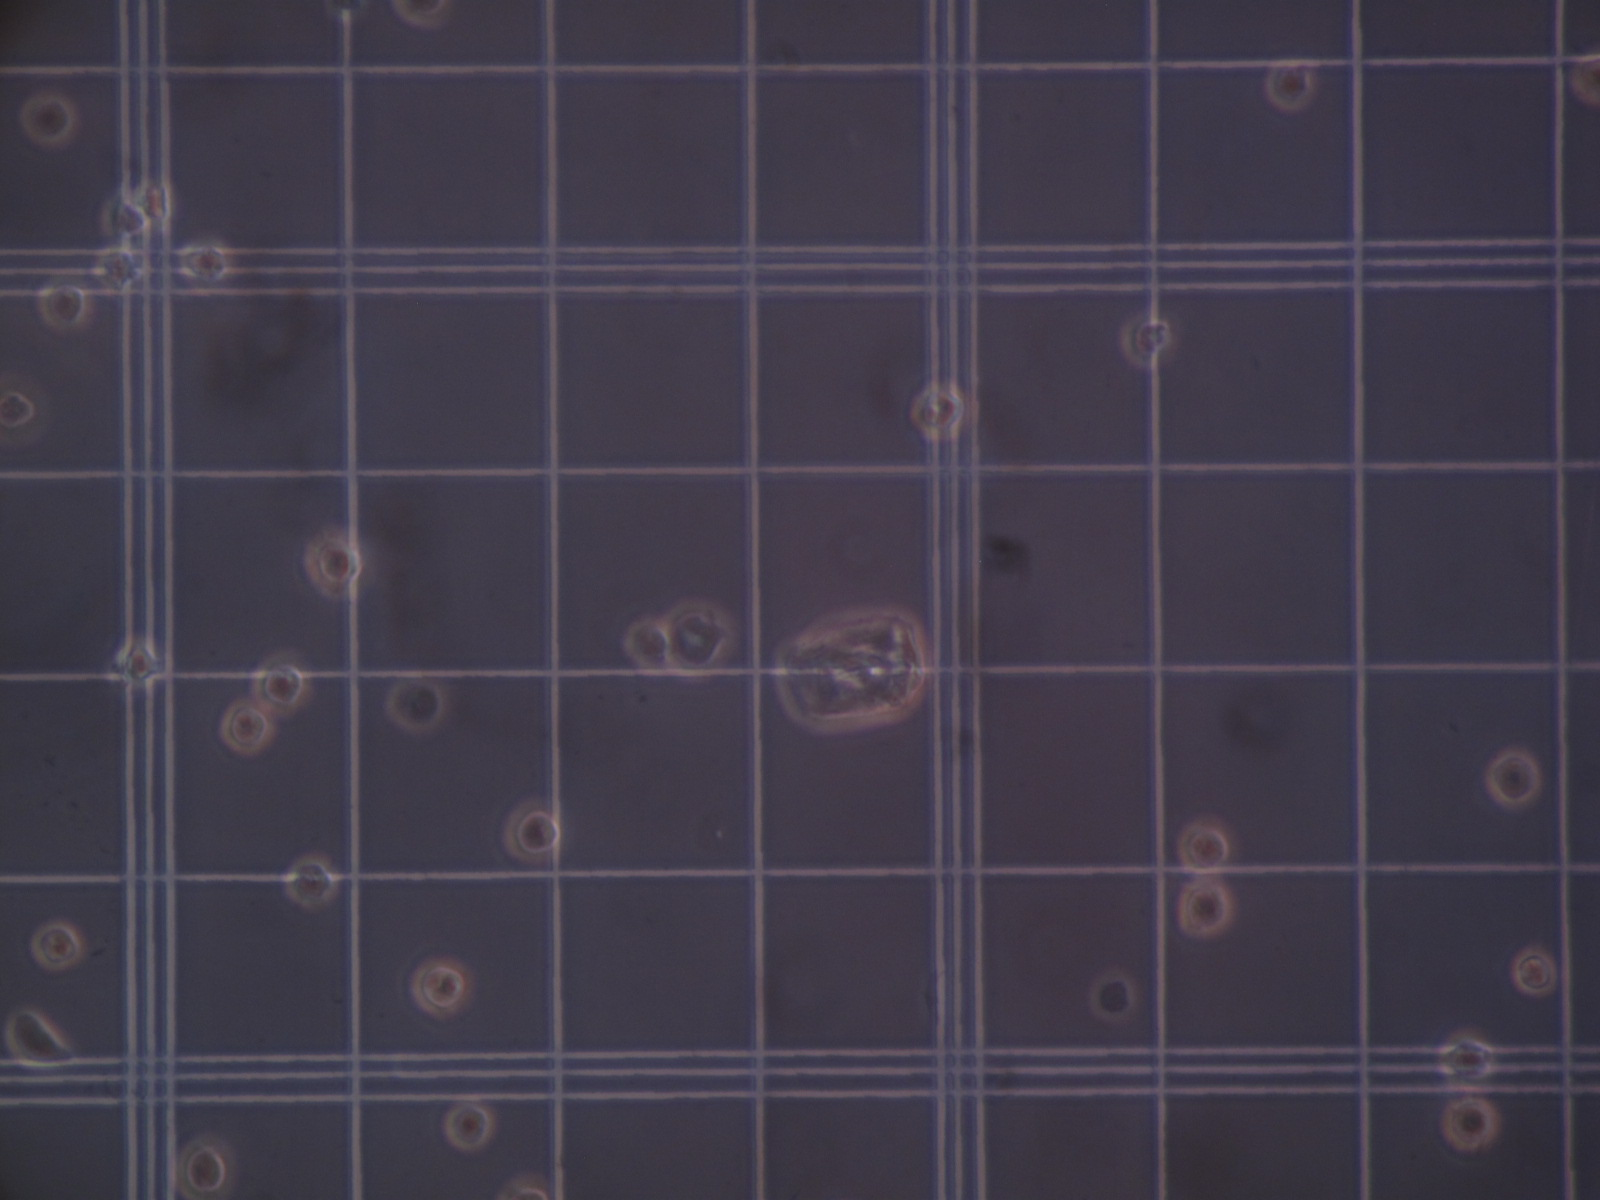hemo: (661, 601, 738, 682), (304, 524, 363, 603), (3, 1007, 76, 1070), (249, 647, 312, 718), (176, 1134, 237, 1200), (409, 953, 469, 1018), (387, 677, 449, 739), (910, 382, 973, 441), (501, 799, 562, 860), (282, 851, 339, 911), (19, 93, 81, 147), (1, 371, 48, 441), (220, 701, 278, 758), (1437, 1099, 1500, 1151), (1437, 1029, 1495, 1084), (1485, 750, 1540, 808), (1178, 816, 1231, 875), (1180, 879, 1233, 938), (1265, 55, 1317, 111), (1120, 314, 1172, 369), (443, 1098, 494, 1152), (37, 282, 92, 332), (624, 618, 669, 677), (29, 921, 82, 972), (1511, 945, 1556, 998), (1090, 971, 1135, 1022), (100, 195, 152, 239), (96, 245, 144, 291), (176, 243, 228, 282), (116, 642, 163, 684), (389, 1, 449, 32), (130, 182, 171, 224), (498, 1174, 556, 1200)
